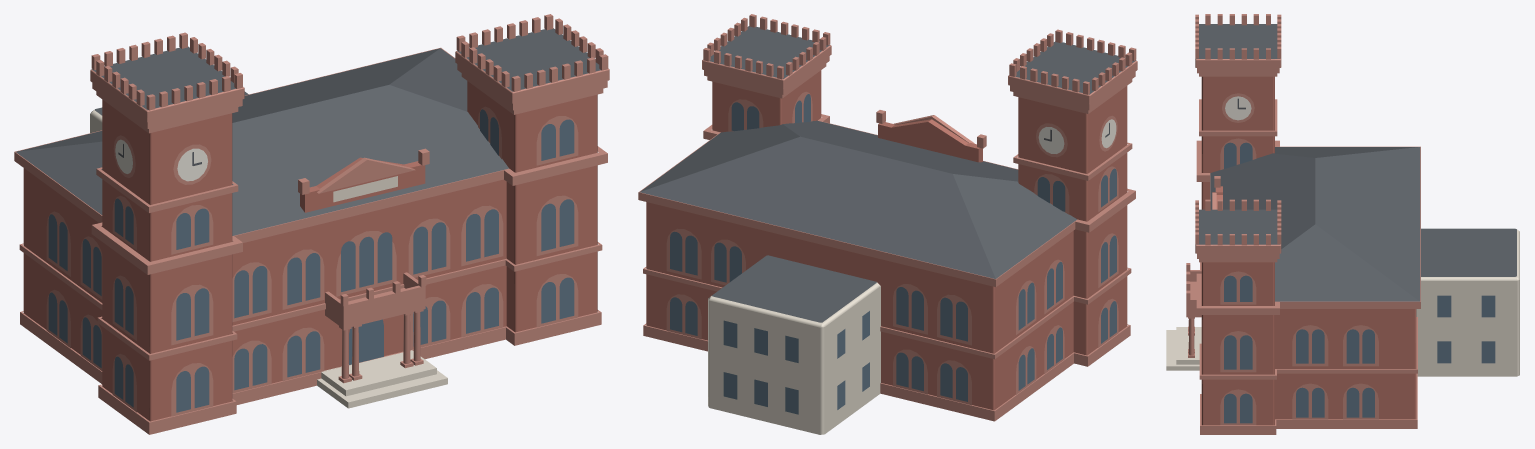
The model's file is nola-algiers-courthouse.glb.
3 views of the same model, side by side, from view 1: azimuth 30°, elevation 25°; view 2: azimuth 150°, elevation 25°; view 3: azimuth 270°, elevation 25° (orthographic). The views are drawn at different scales.
Parts seen in each view (by area): view 1: Algiers Courthouse; view 2: Algiers Courthouse; view 3: Algiers Courthouse.
Boxes of the visible parts, x1,y1,x2,y2 form: Algiers Courthouse: [14, 14, 609, 434]; Algiers Courthouse: [638, 14, 1137, 434]; Algiers Courthouse: [1166, 14, 1519, 434].
Bounding box in the file's own units: 31.6 × 22.2 × 28.05.
